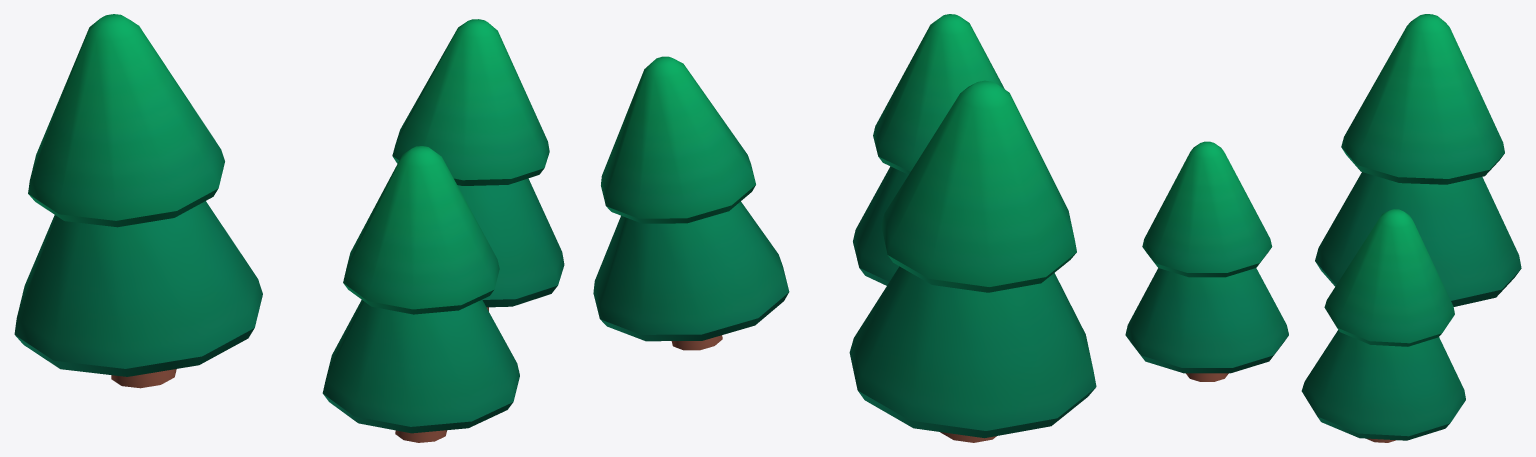
Rendered from pines-b.glb.
The picture shows the model from 3 angles, left to right: view 1: azimuth 30°, elevation 25°; view 2: azimuth 150°, elevation 25°; view 3: azimuth 270°, elevation 25°; orthographic projection. The views are drawn at different scales.
Parts seen in each view (by area): view 1: trees_B_small; view 2: trees_B_small; view 3: trees_B_small.
Boxes of the visible parts, box(x1,y1,x2,y2) form: trees_B_small: box(14, 14, 564, 442); trees_B_small: box(593, 14, 1096, 442); trees_B_small: box(1125, 14, 1521, 442).
Size of the model in its own units: 1.33 by 0.9218 by 1.14.
1 material, 1 textured.
